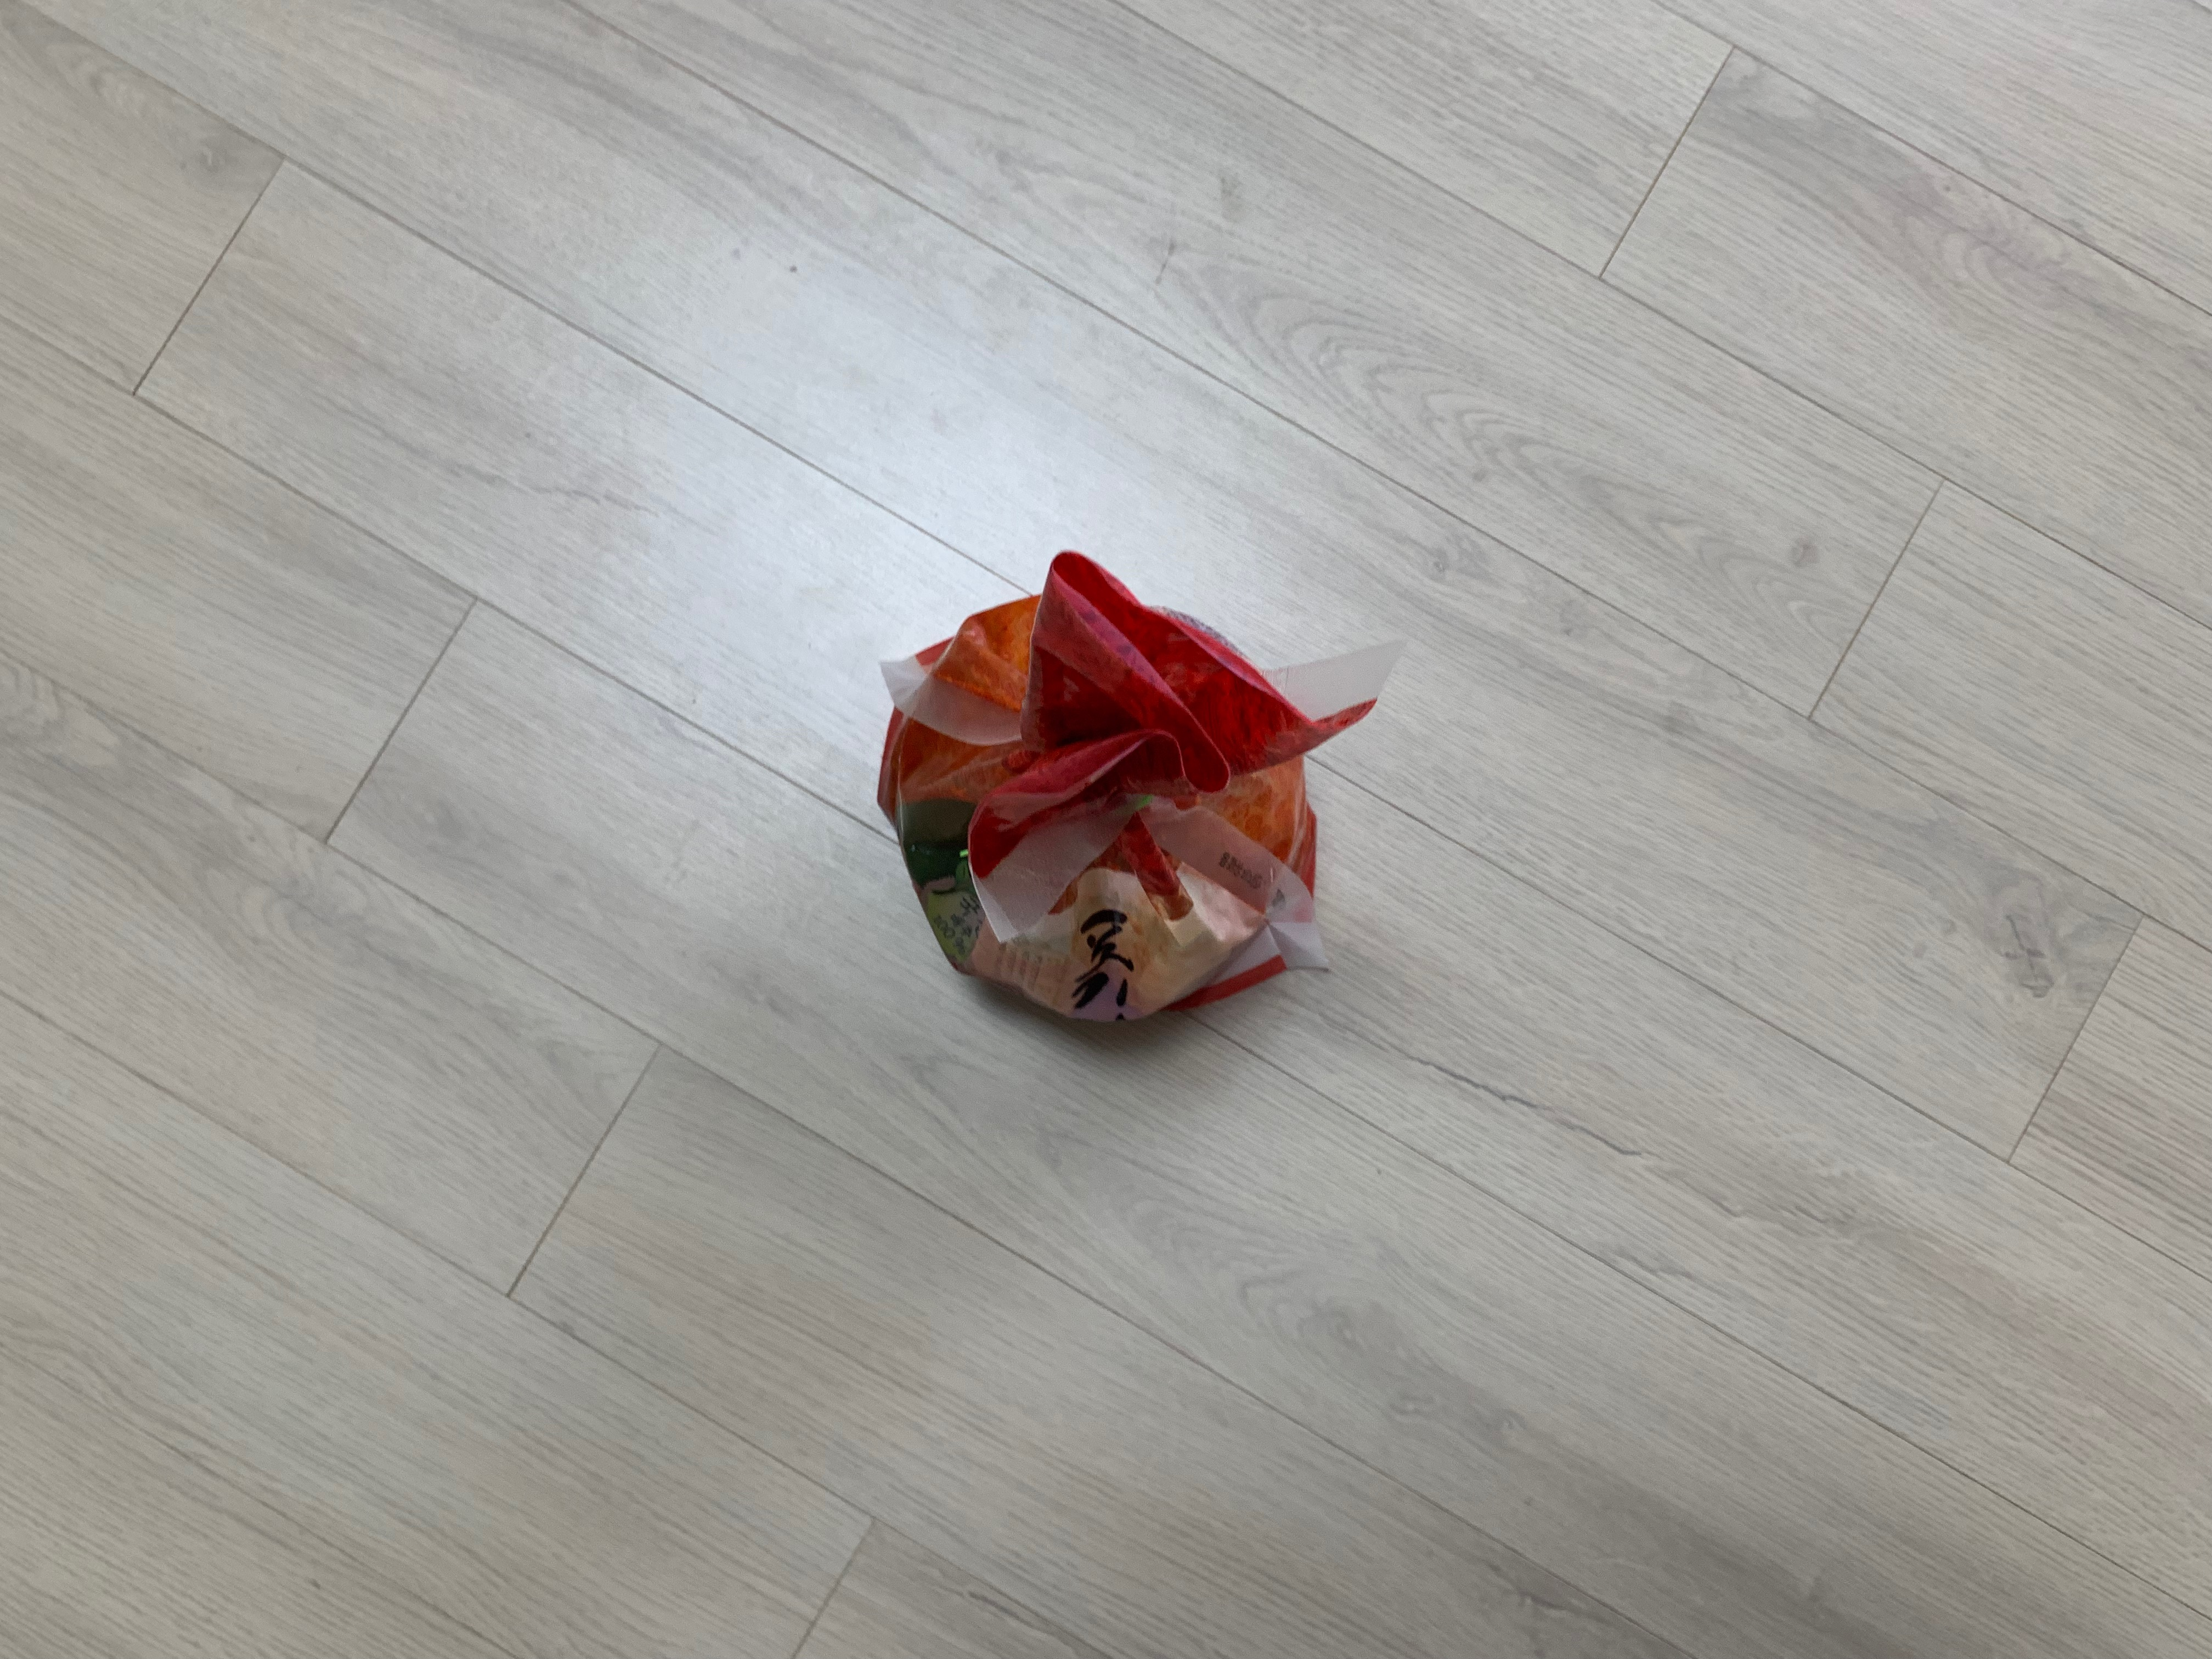kimchi: (878, 551, 1374, 1033)
